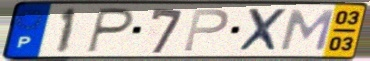1: (54, 6, 78, 55)
7: (150, 6, 184, 55)
M: (277, 8, 337, 53)
P: (84, 6, 137, 55), (181, 7, 231, 53)
X: (236, 7, 290, 54)
